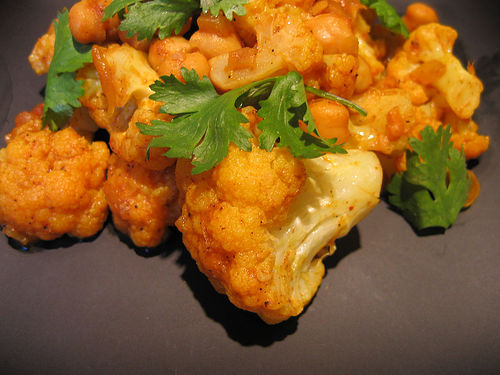cauliflower: (1, 1, 490, 324)
